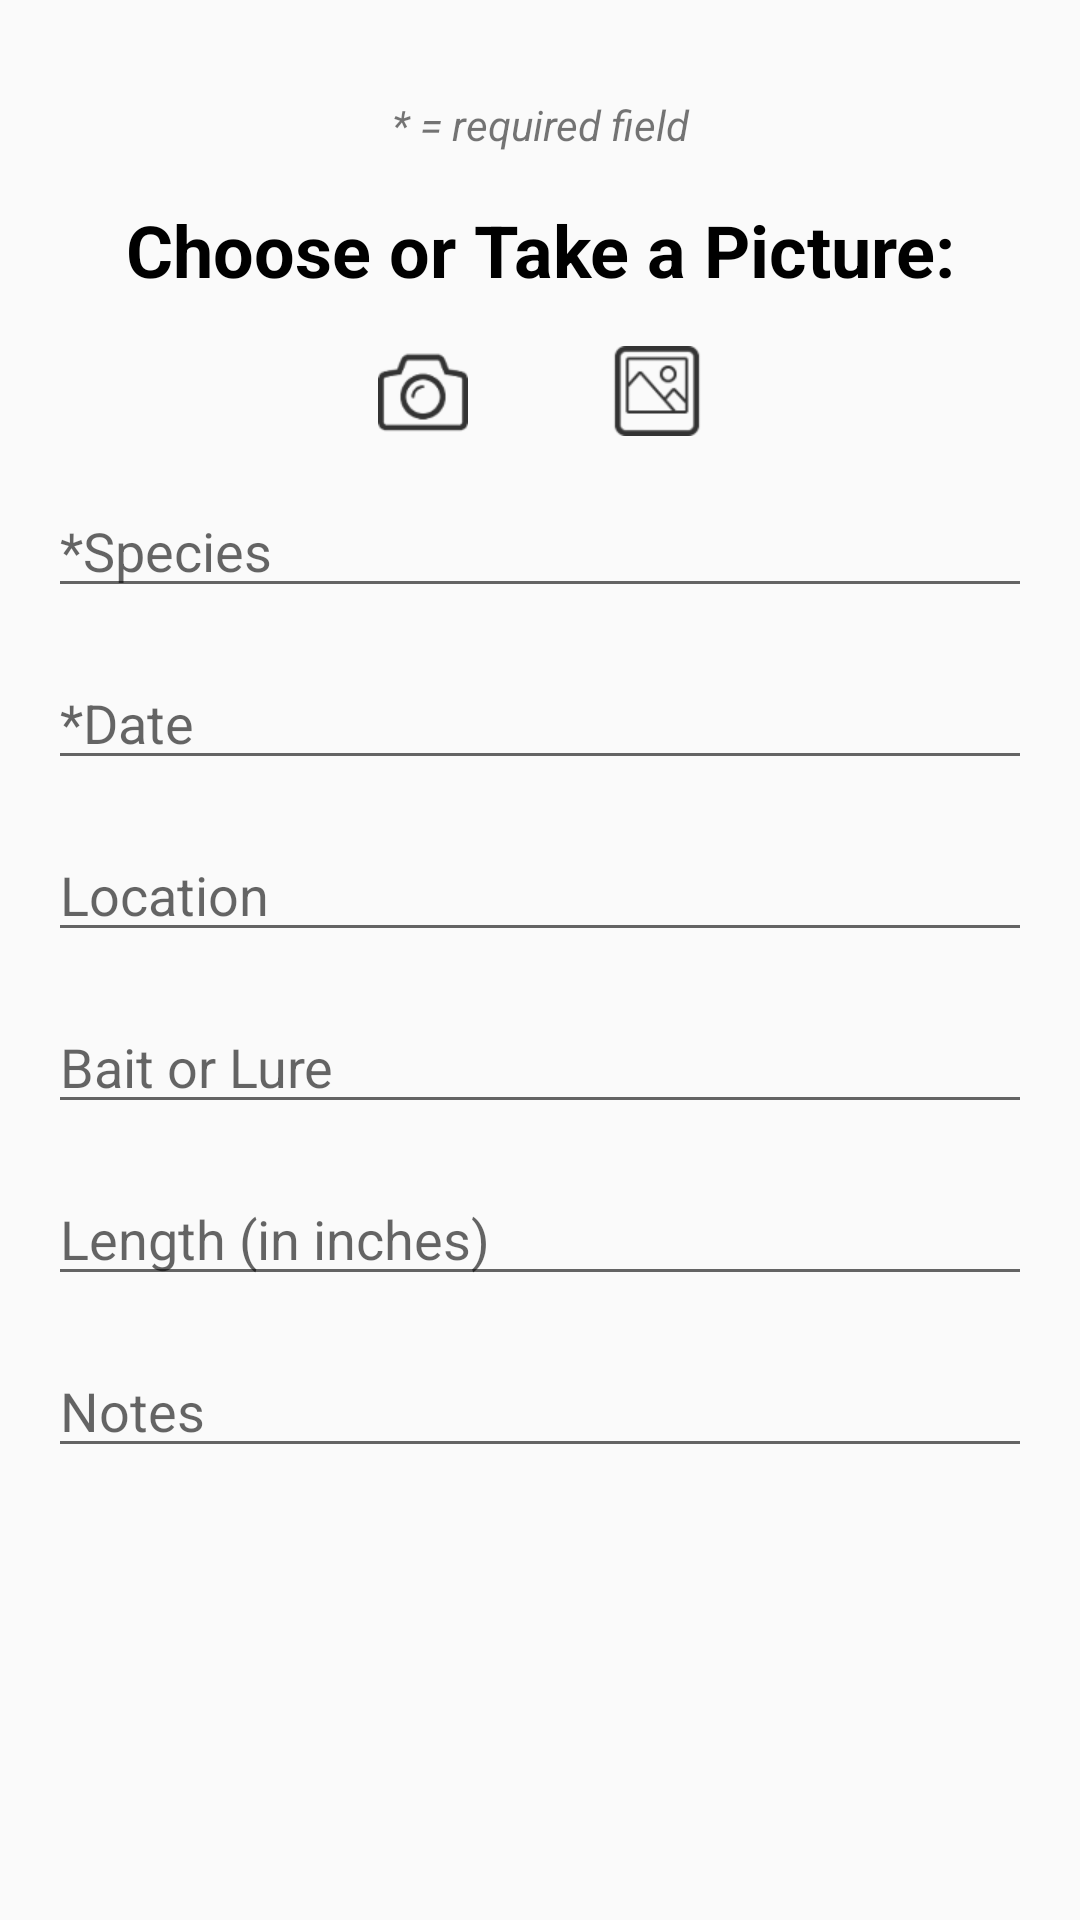

Named icons in this screenshot (1080×1920) and their bounding boxes, (x1, y1, x2, y2):
choose pic: (614, 346, 700, 436)
take pic: (378, 353, 468, 431)
